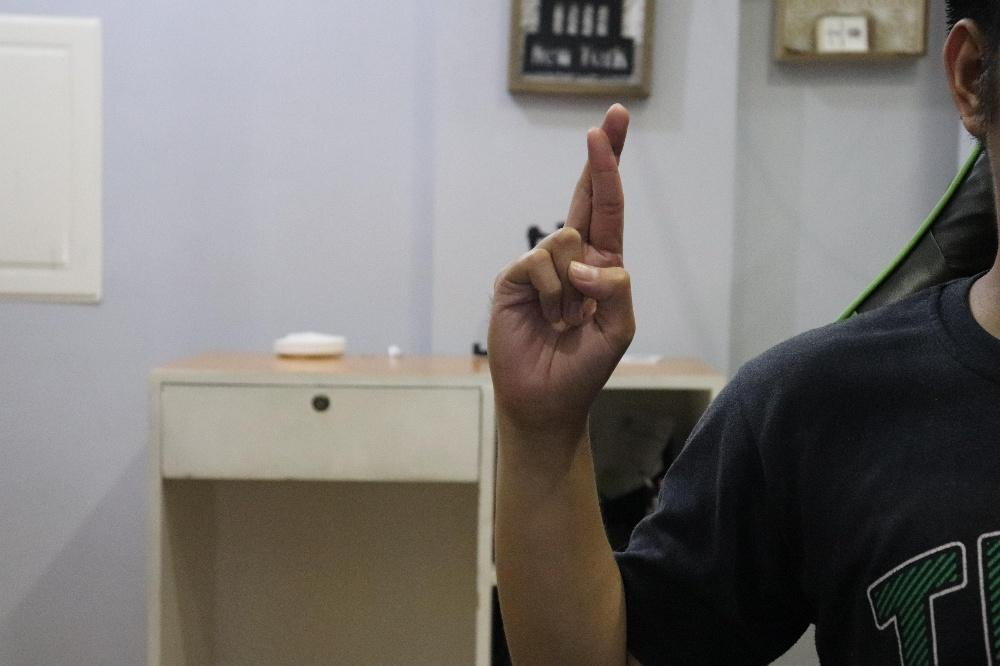r: (485, 101, 636, 420)
